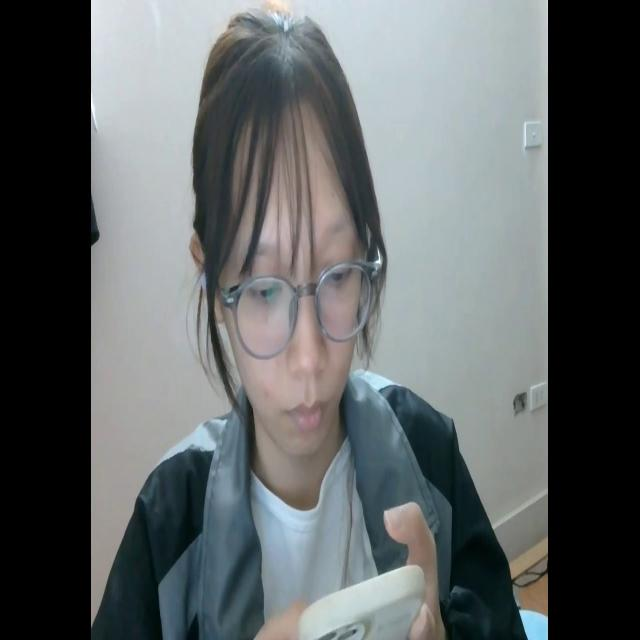phone: (299, 552, 424, 640)
student: (93, 10, 531, 640)
